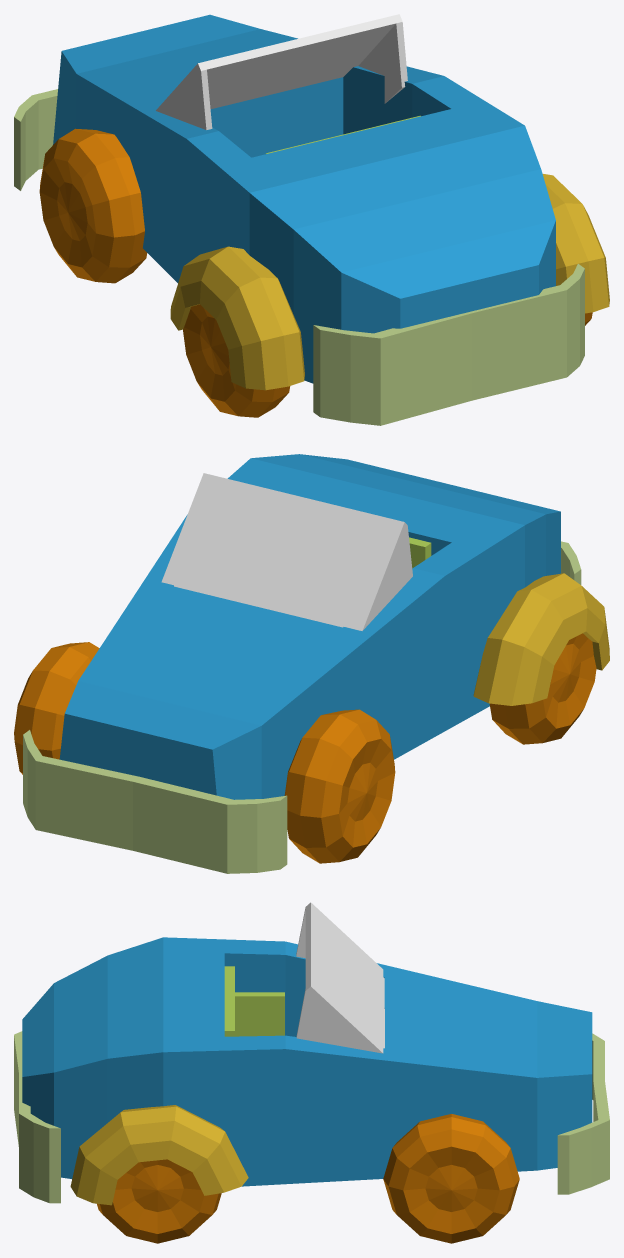
File: juguete carrito.fbx
3 renders of one model, top to bottom at view 1: azimuth 30°, elevation 25°; view 2: azimuth 150°, elevation 25°; view 3: azimuth 270°, elevation 25°, orthographic. The views are drawn at different scales.
Parts seen in each view (by area): view 1: Cube, Cube.002, Sphere, Plane, Torus.001, Sphere.003, Torus, Cube.001; view 2: Cube, Plane, Cube.001, Sphere, Torus.001, Sphere.003, Sphere.001, Cube.002; view 3: Cube, Sphere.001, Torus, Plane, Sphere.002, Cube.001, Cube.002, Cube.003.
Part boxes in pixels (<box>): Cube: <box>53,14,555,383</box>; Cube.002: <box>313,264,584,425</box>; Sphere: <box>39,128,147,283</box>; Plane: <box>156,14,407,129</box>; Torus.001: <box>170,246,304,390</box>; Sphere.003: <box>183,304,290,417</box>; Torus: <box>542,174,609,313</box>; Cube.001: <box>14,89,57,190</box>; Cube: <box>59,454,560,799</box>; Plane: <box>161,473,412,630</box>; Cube.001: <box>23,730,287,873</box>; Sphere: <box>284,709,395,863</box>; Torus.001: <box>473,573,609,705</box>; Sphere.003: <box>489,633,596,744</box>; Sphere.001: <box>14,642,99,774</box>; Cube.002: <box>561,541,581,584</box>; Cube: <box>22,937,592,1186</box>; Sphere.001: <box>383,1114,519,1243</box>; Torus: <box>70,1105,248,1205</box>; Plane: <box>296,902,384,1053</box>; Sphere.002: <box>97,1159,221,1243</box>; Cube.001: <box>557,1033,609,1194</box>; Cube.002: <box>14,1031,60,1203</box>; Cube.003: <box>224,966,284,1036</box>.
Size of the model in its own units: 196 by 137 by 319.
